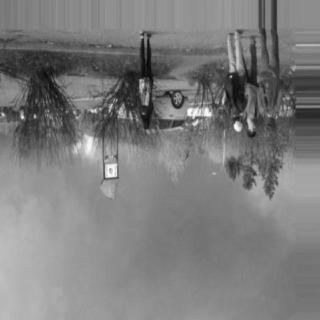Fire: (71, 129, 110, 166)
Smoke: (115, 164, 277, 306)
